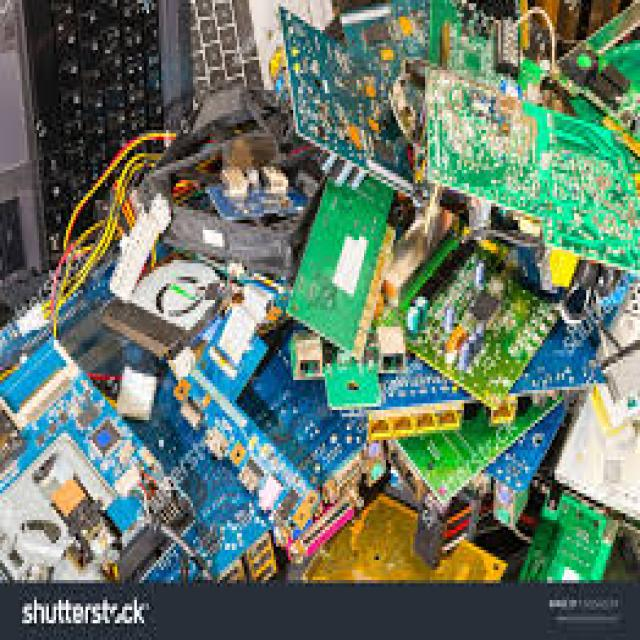Hazard: (8, 0, 631, 591)
